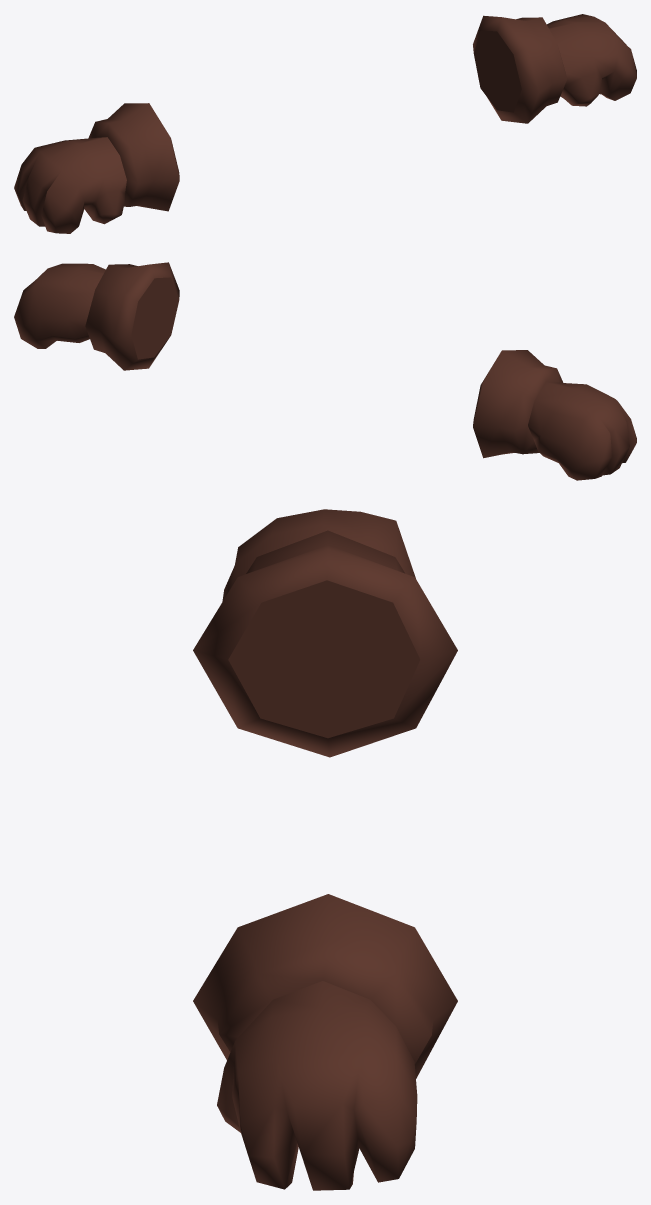
Rendered from Glove_5.fbx.
The picture shows the model from 3 angles, top to bottom: view 1: azimuth 30°, elevation 25°; view 2: azimuth 150°, elevation 25°; view 3: azimuth 270°, elevation 25°; orthographic projection. The views are drawn at different scales.
Visible parts, largest first — view 1: Glove_5; view 2: Glove_5; view 3: Glove_5.
Part boxes in pixels (x1,y1,x2,y2): Glove_5: (14, 14, 636, 233); Glove_5: (14, 262, 636, 480); Glove_5: (193, 509, 457, 1190).
Size of the model in its own units: 133 by 22.05 by 25.51.
